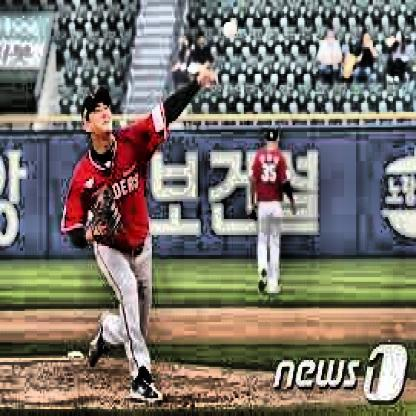baseball: (221, 22, 241, 44)
